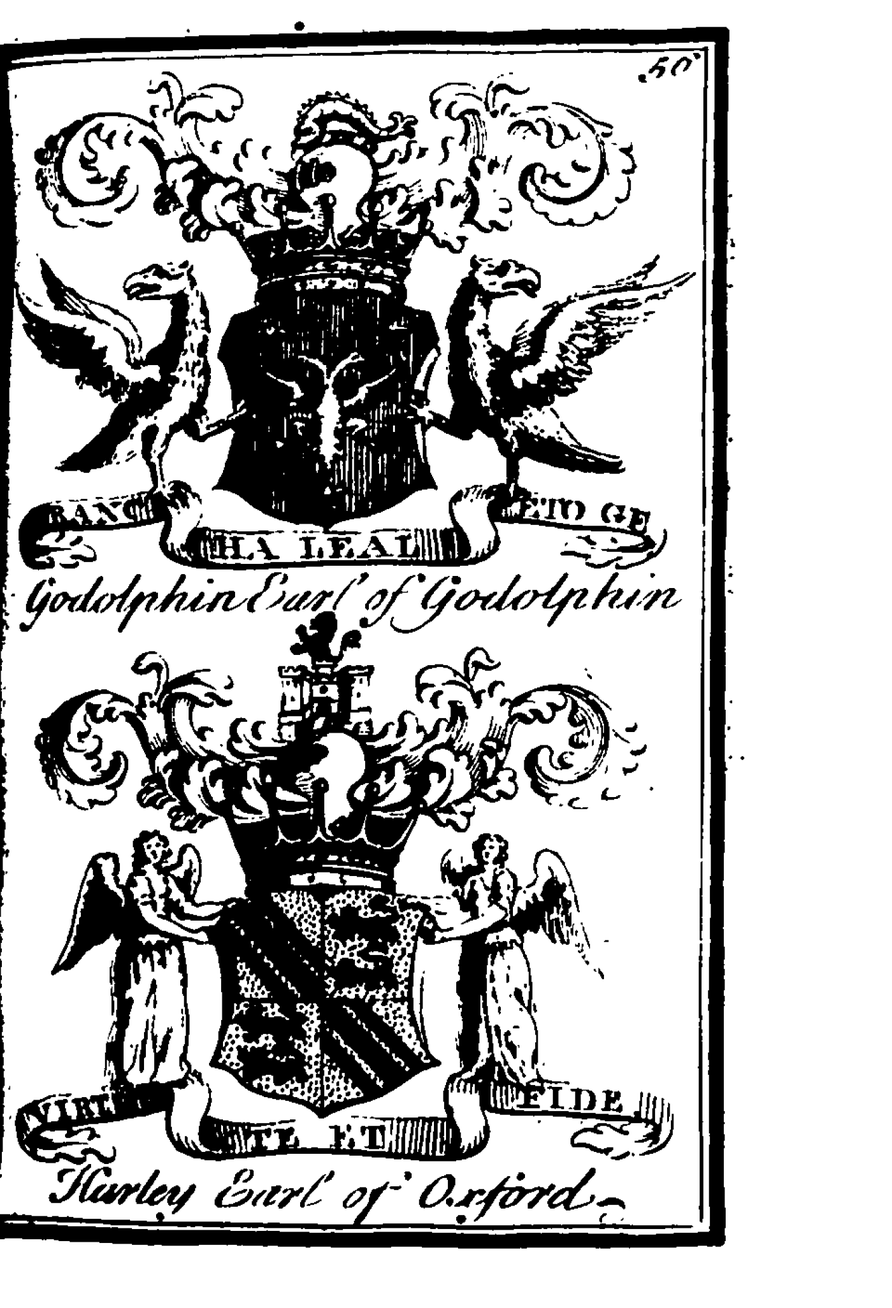coat_of_arms: (11, 636, 703, 1219), (10, 71, 688, 634)
